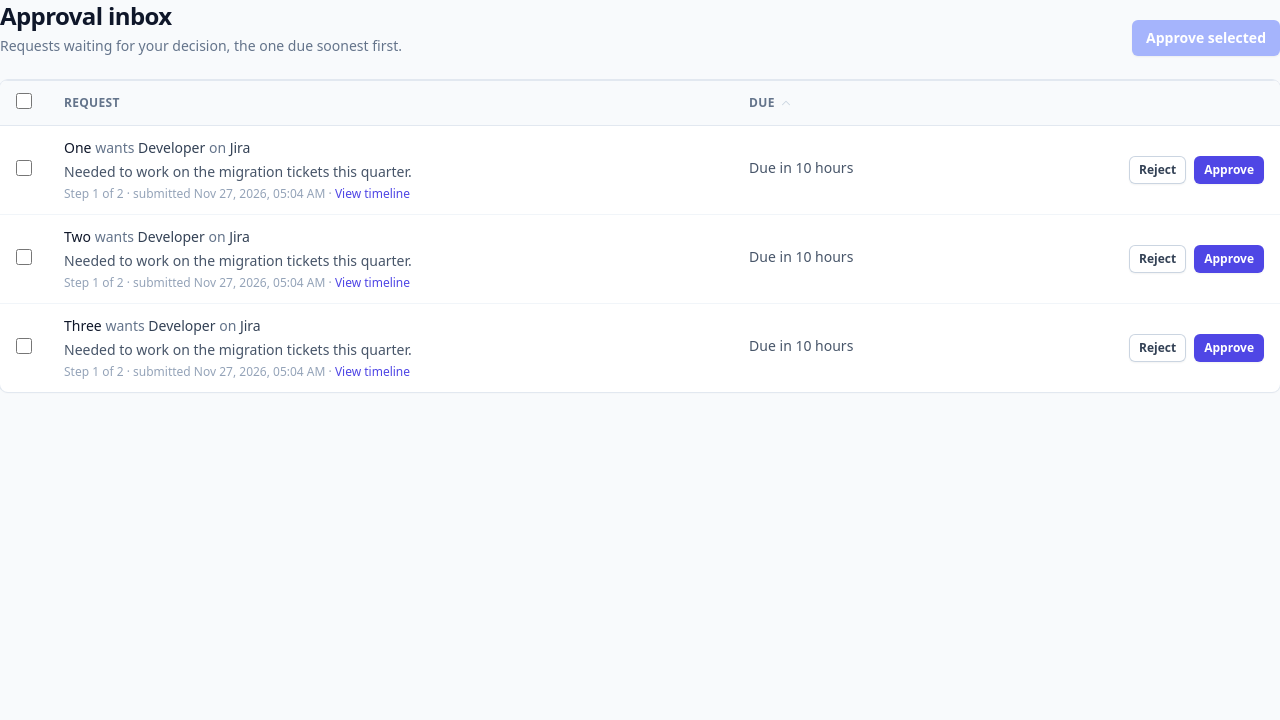
Approval inbox › bulk-approves the selected rows and reports partial failures
The width and height of the screenshot is (1280, 720).
Check: the text "One" is shown, box [64, 138, 92, 157]
Check: the button "Approve selected" is disabled, box [1132, 20, 1279, 56]
Click the checkbox named "Select request from One" at point(24, 168), box [16, 160, 32, 176]
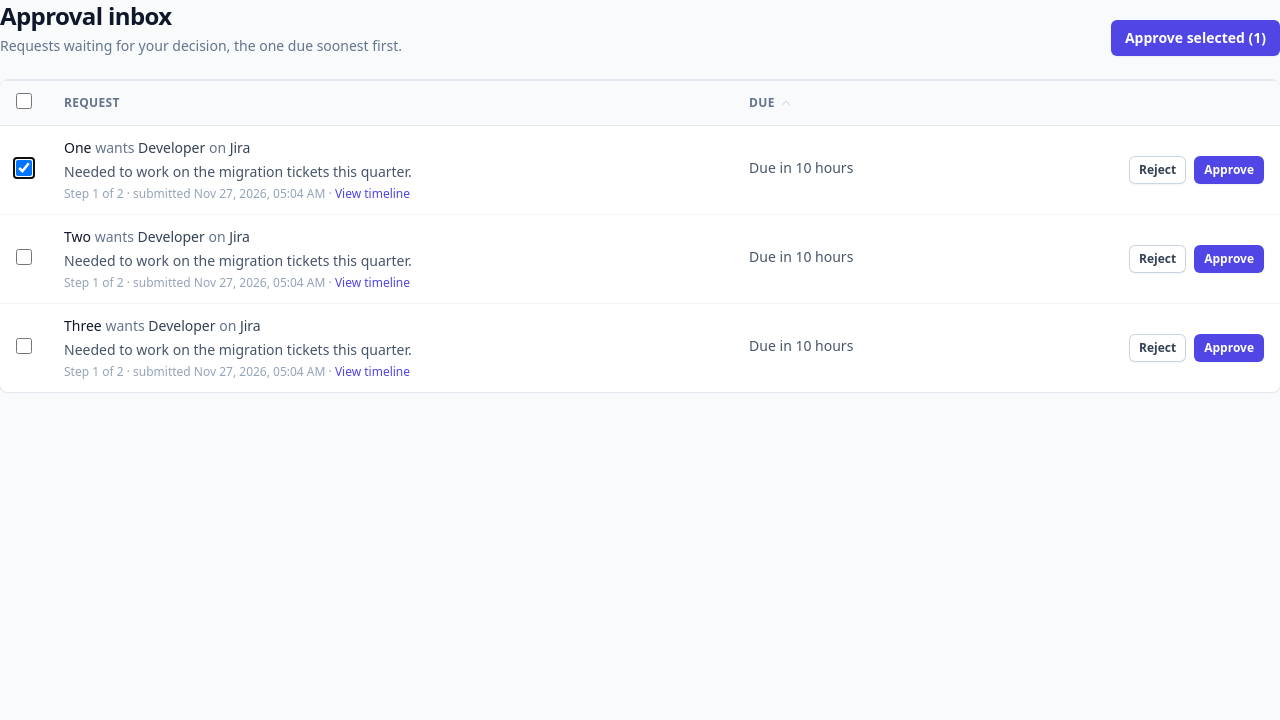
Click the checkbox named "Select request from Two" at point(24, 256), box [16, 248, 32, 264]
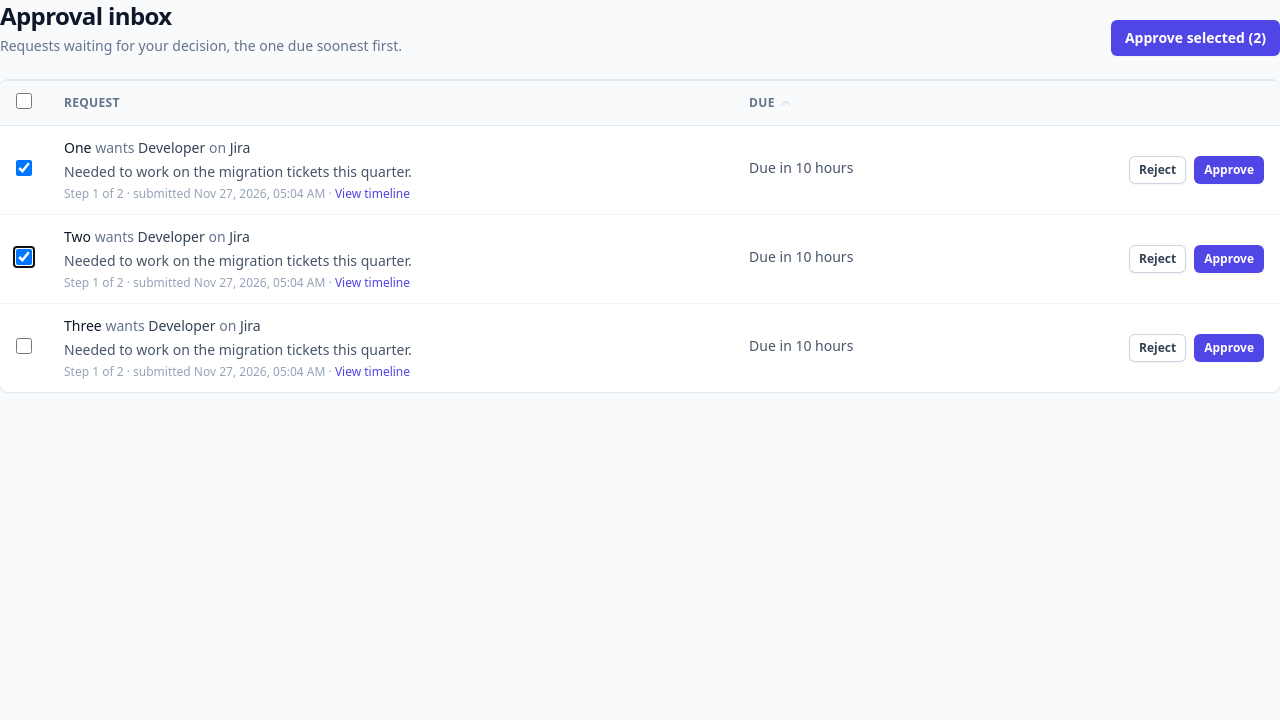
Click the button "Approve selected (2)" at point(1195, 38), box [1111, 20, 1279, 56]
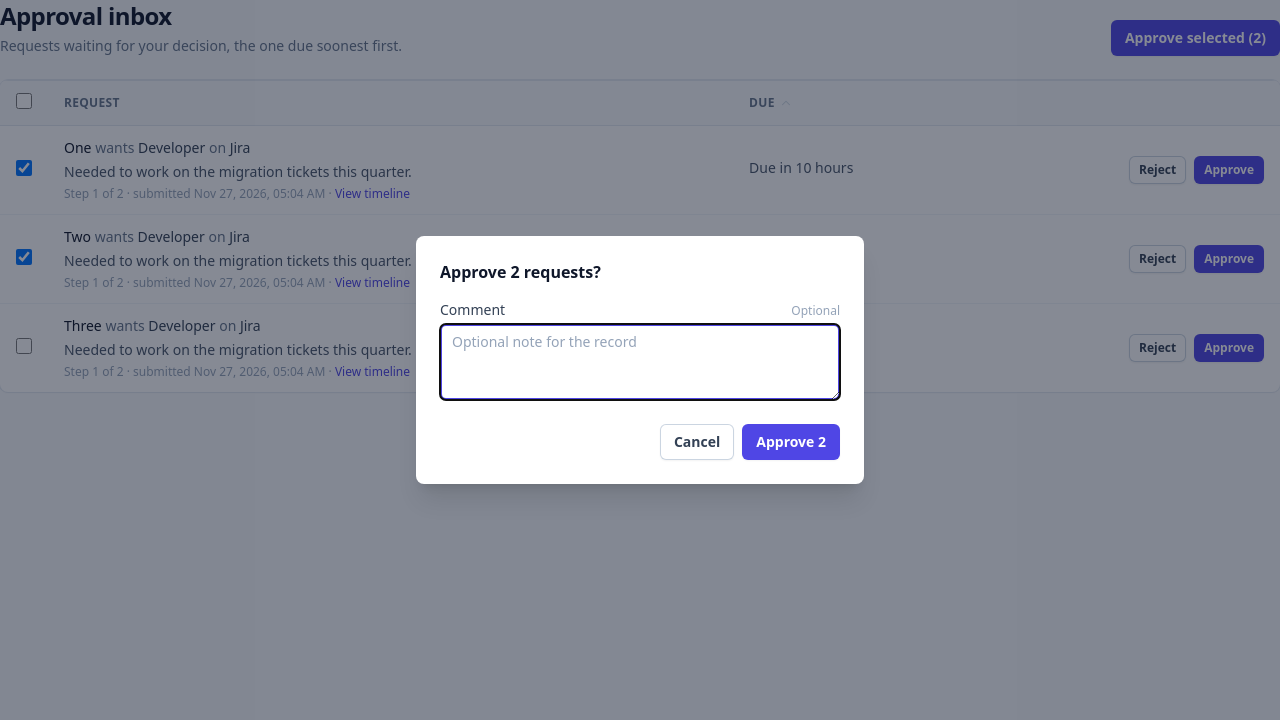
Click the button "Approve 2" at point(791, 442), box [742, 424, 840, 460]
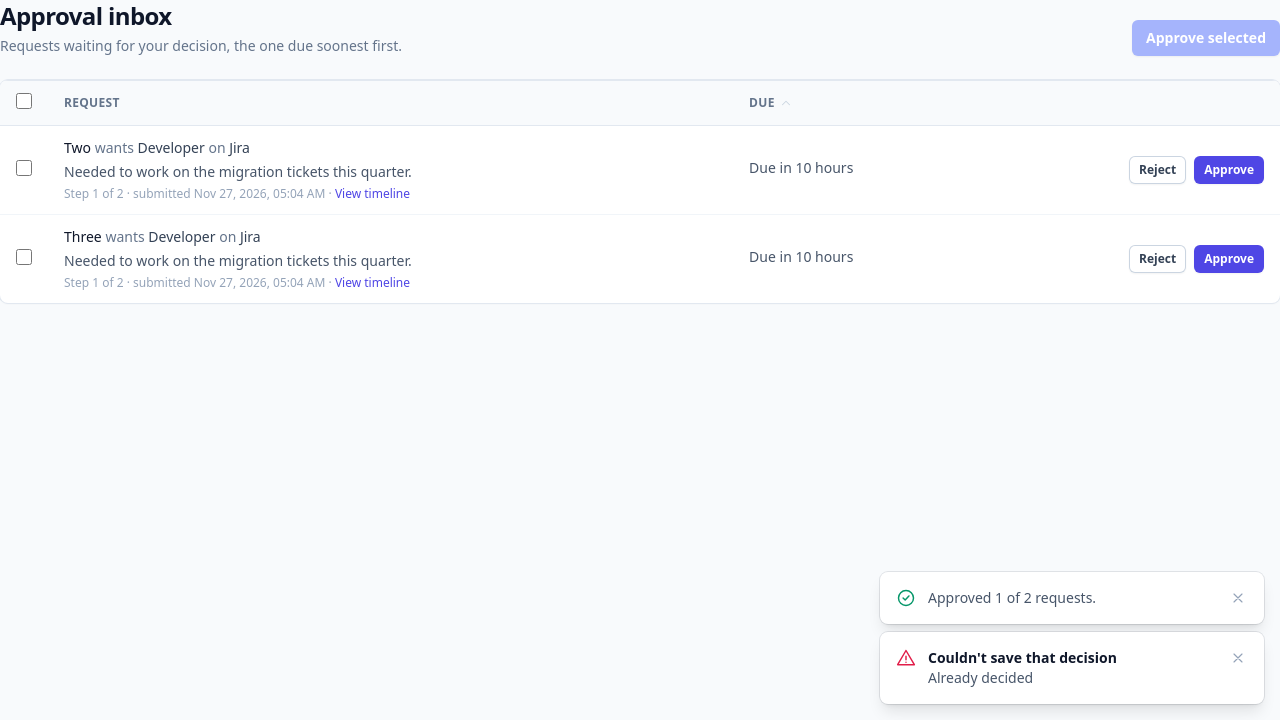
Check: the text "Two" is shown, box [64, 138, 91, 157]
Check: the text "Approved 1 of 2 requests." is shown, box [928, 588, 1096, 607]
Check: the message "Couldn't save that decision Already decided" is shown, box [880, 632, 1264, 704]
